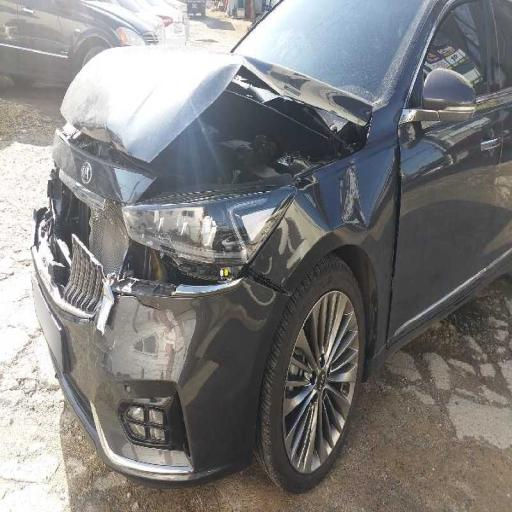broken: (54, 66, 376, 464)
